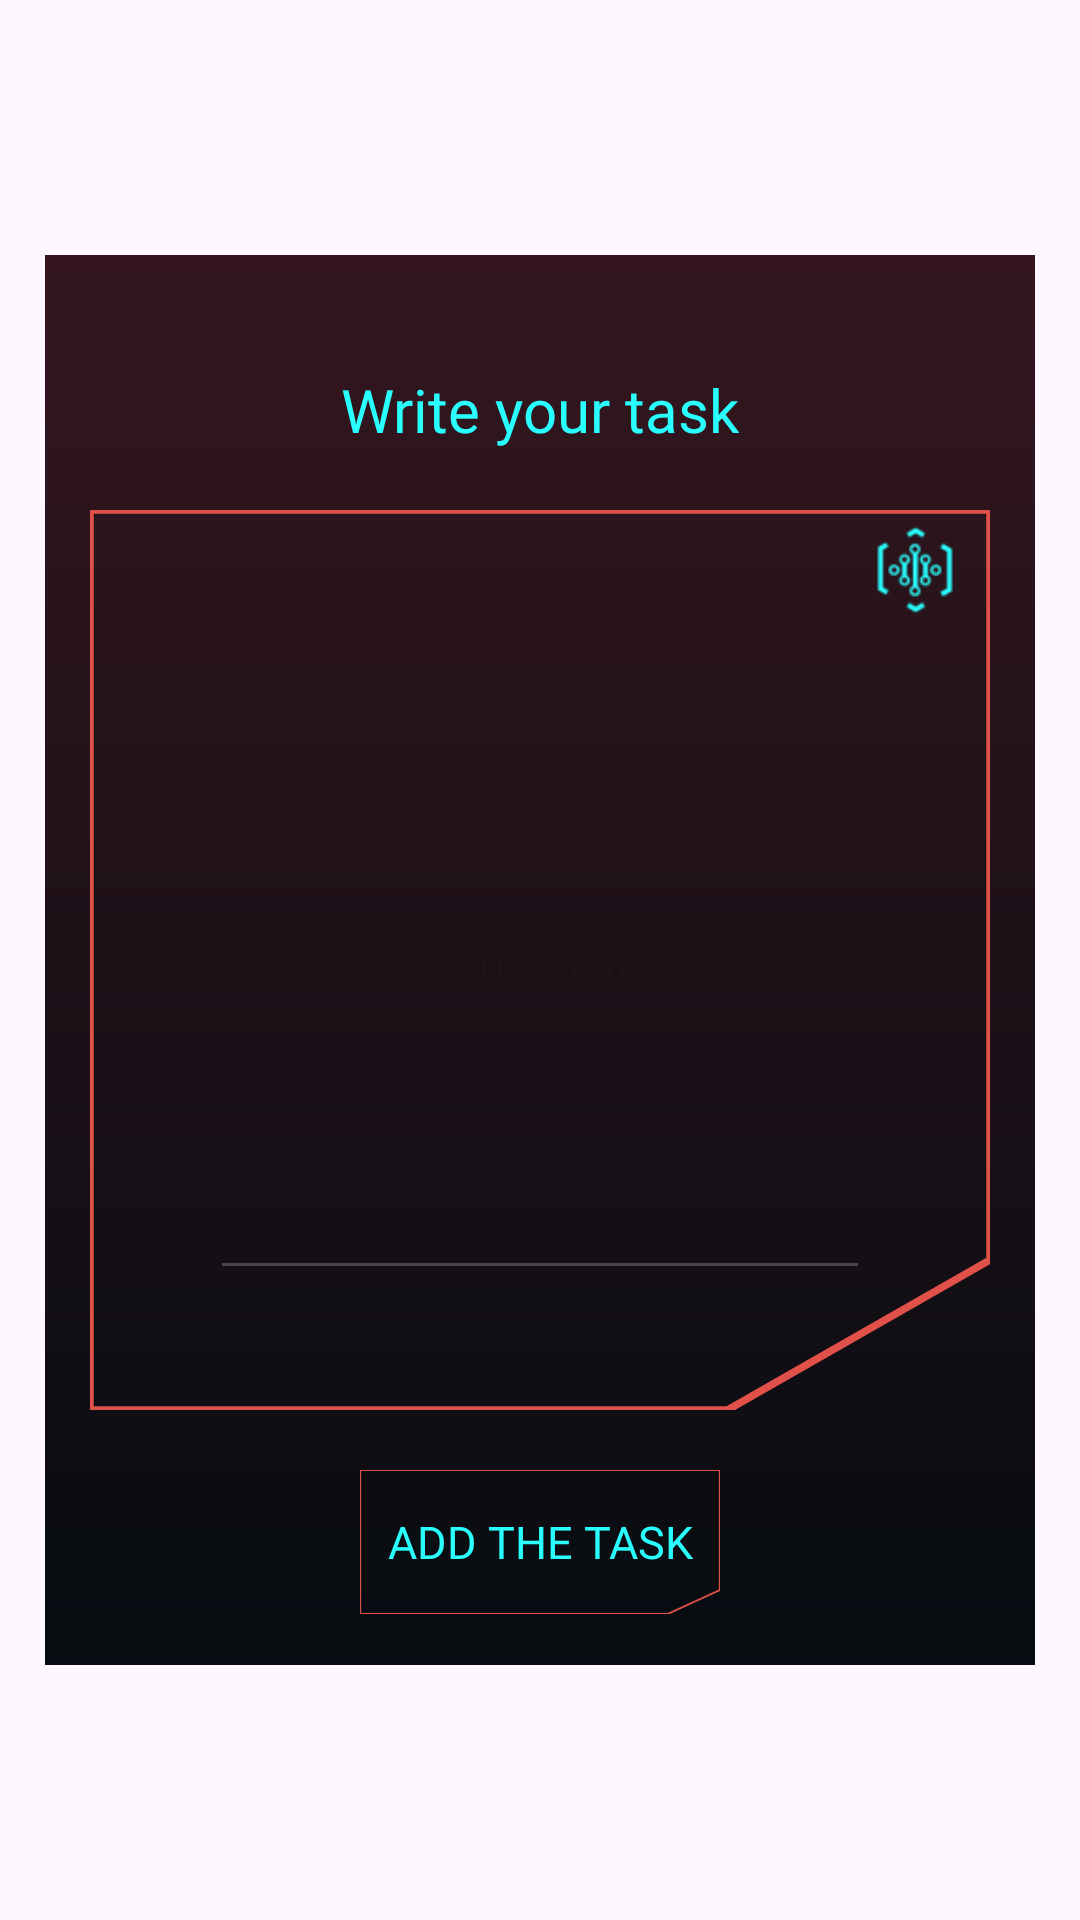

Where to tap for icons on this 1080x1920 app screen, as (x=x, y=y):
cyberpunk inteligencia: (x=915, y=570)
